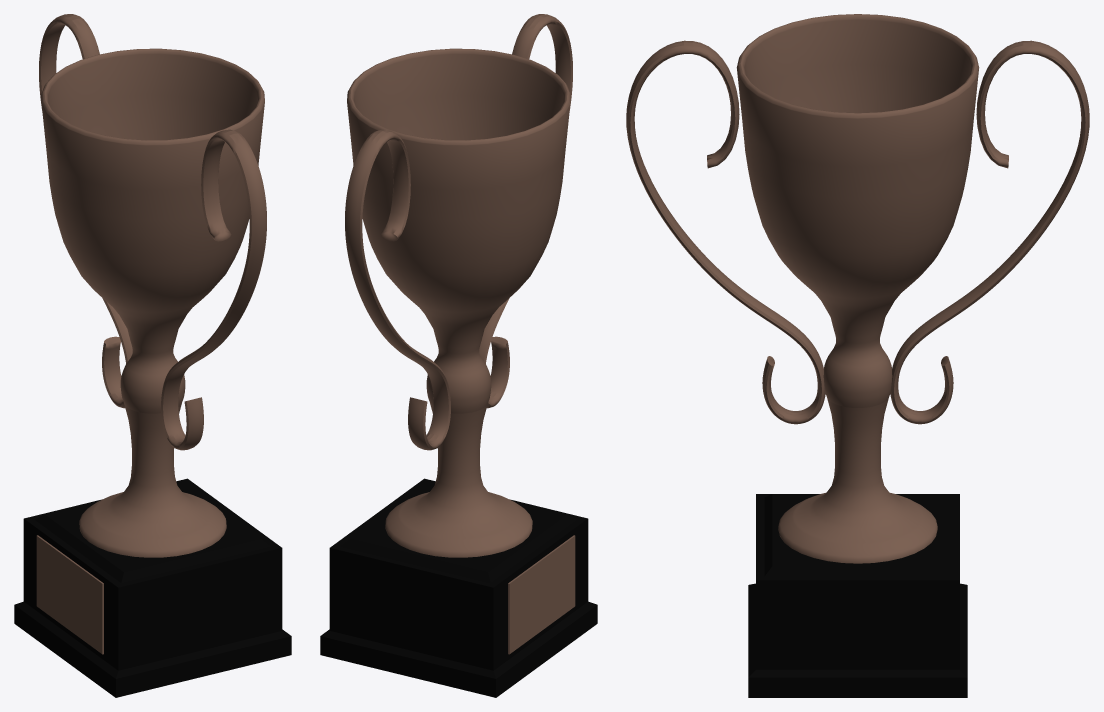
Rendered from coupe bronze.fbx.
3 views of the same model, side by side, from view 1: azimuth 30°, elevation 25°; view 2: azimuth 150°, elevation 25°; view 3: azimuth 270°, elevation 25° (orthographic). The views are drawn at different scales.
Visible parts, largest first — view 1: Cylinder.003; view 2: Cylinder.003; view 3: Cylinder.003.
Part boxes in pixels (box(x1,y1,x2,y2)): Cylinder.003: box(14, 14, 291, 697); Cylinder.003: box(320, 14, 597, 697); Cylinder.003: box(626, 14, 1089, 697).
Size of the model in its own units: 221 by 613 by 423.
